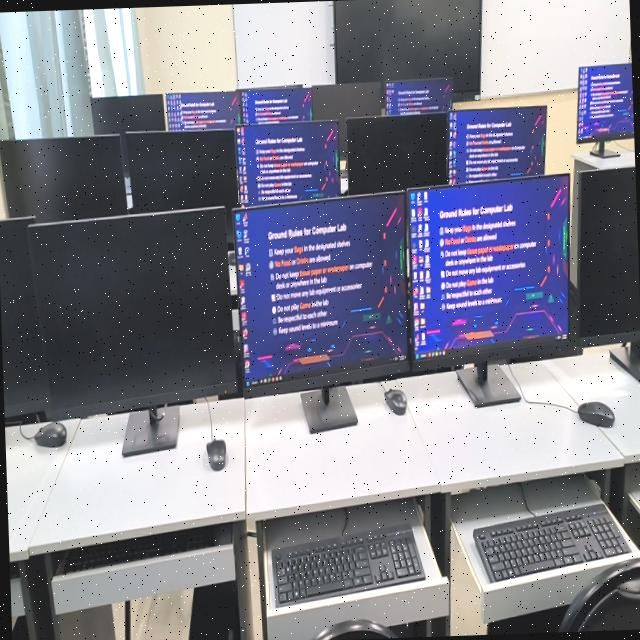Chair: (486, 556, 640, 634), (506, 280, 581, 362), (307, 618, 397, 640)
Cpu: (11, 615, 28, 640)
Digital board: (332, 0, 480, 100)
Keyboard: (270, 522, 422, 603), (472, 503, 627, 581), (56, 525, 213, 573)
Monitor: (27, 206, 240, 455), (232, 191, 408, 432), (405, 174, 569, 406), (578, 165, 640, 381), (123, 128, 238, 228), (0, 134, 126, 221), (0, 216, 50, 422), (233, 120, 339, 203), (345, 112, 447, 193), (447, 106, 545, 182), (90, 93, 163, 175), (310, 81, 383, 158), (575, 62, 634, 156), (164, 89, 239, 129), (240, 84, 310, 123), (384, 77, 450, 114)
Mouse: (187, 580, 239, 640), (576, 400, 613, 426), (32, 420, 65, 446), (205, 438, 225, 469), (383, 387, 405, 414), (227, 250, 234, 264)
